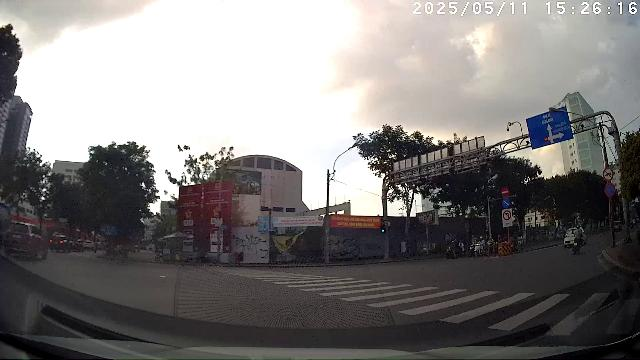123a-cam-re-trai: (502, 209, 512, 221)
